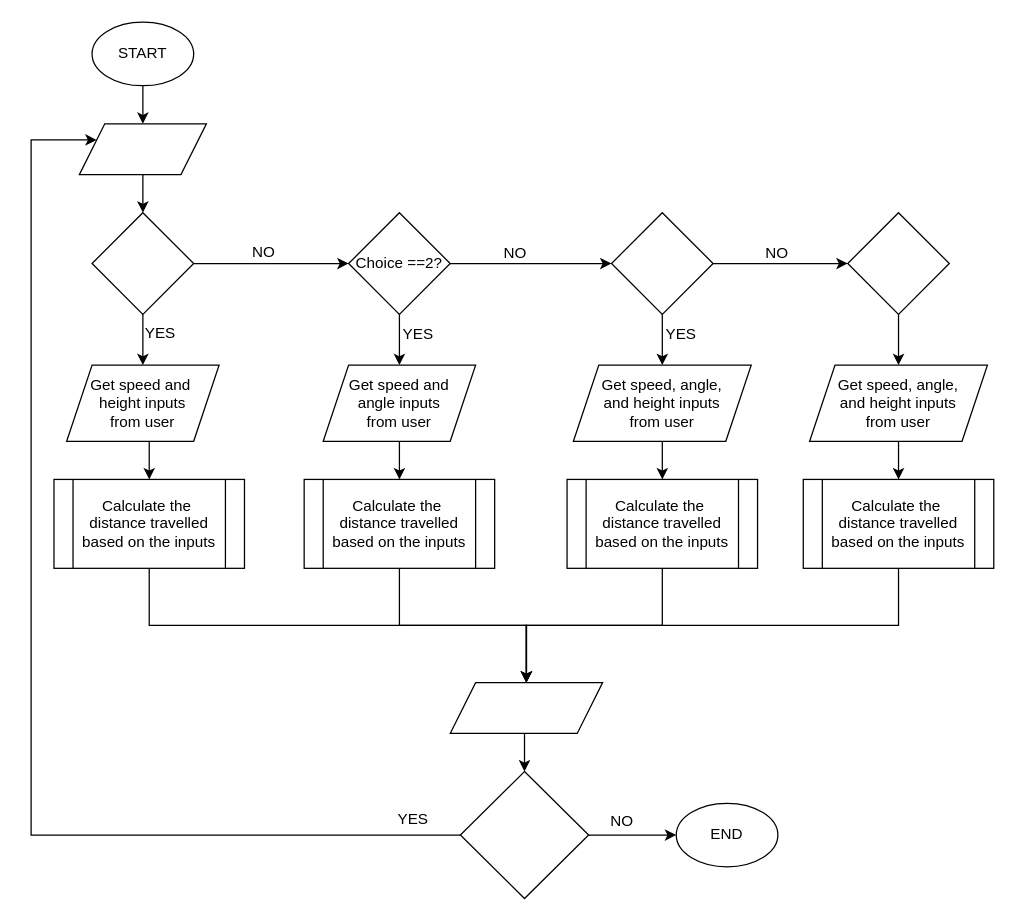
Some shapes in this 1016 by 921 pixel diagram are drawn without their labels. Each missing label, with the centre of its shape:
"Choice = 4" belongs at point 897,262.
"Choice ==1?" belongs at point 142,262.
"Choice ==3?" belongs at point 661,262.
"Display answer" belongs at point 526,707.
"Get Choice from user" belongs at point 142,149.
"Make another calculation?" belongs at point 524,834.
